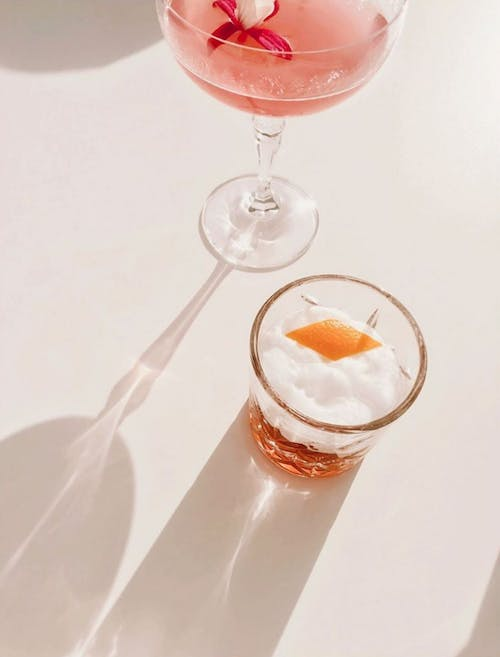alcohol: (153, 0, 410, 272), (246, 271, 428, 481)
